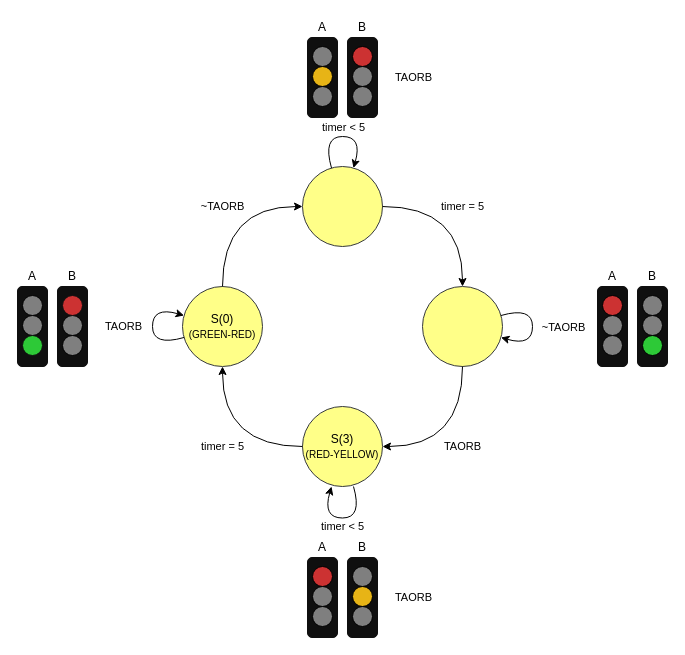
Some shapes in this 685 by 655 pixel diagram are drawn without their labels. The shapes that lost their labels are listed below. From the top down, each one's box as (x1, y1, x2, y2) in pixels, then its label:
(302, 166, 382, 246): S(1) (YELLOW-RED)
(422, 286, 502, 366): S(2) (RED-GREEN)
